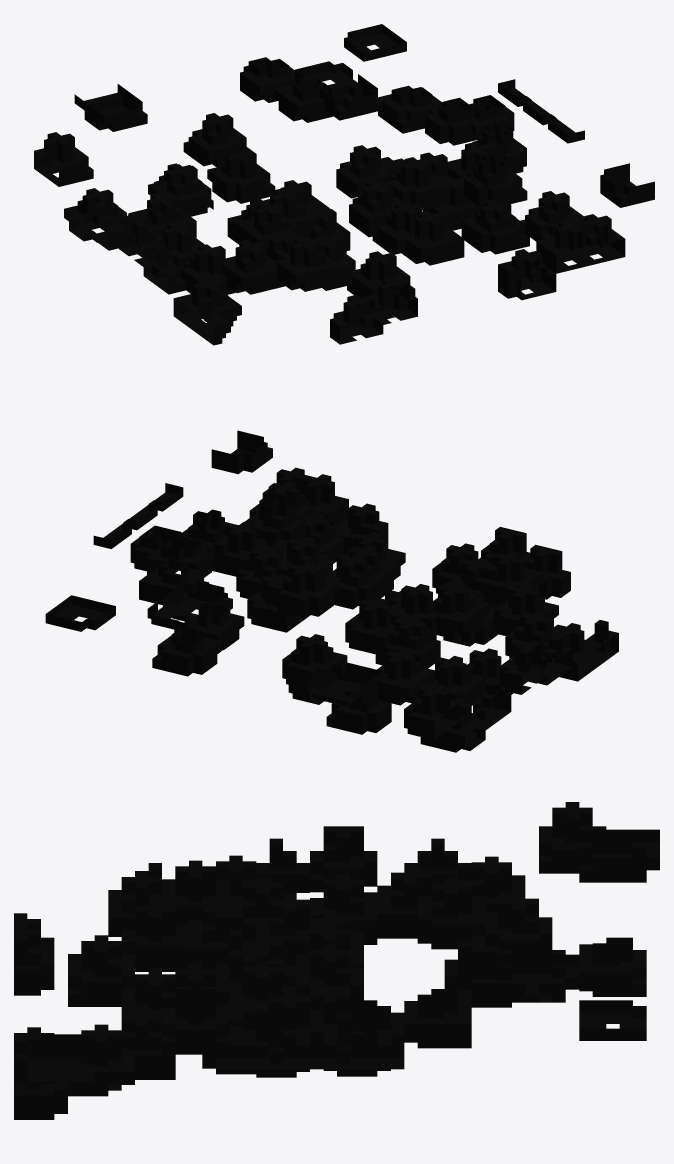
Rendered from Map.glb.
3 views of the same model, one above another, from view 1: azimuth 30°, elevation 25°; view 2: azimuth 150°, elevation 25°; view 3: azimuth 270°, elevation 25° (orthographic). The views are drawn at different scales.
Visible parts, largest first — view 1: minecraft_block-birch_leaves; view 2: minecraft_block-birch_leaves; view 3: minecraft_block-birch_leaves.
Part boxes in pixels (bbox=[...]): minecraft_block-birch_leaves: bbox=[34, 24, 654, 345]; minecraft_block-birch_leaves: bbox=[45, 430, 618, 752]; minecraft_block-birch_leaves: bbox=[14, 802, 659, 1119].
Size of the model in its own units: 752 by 208 by 768.
Materials: 13 (13 with a texture image).
